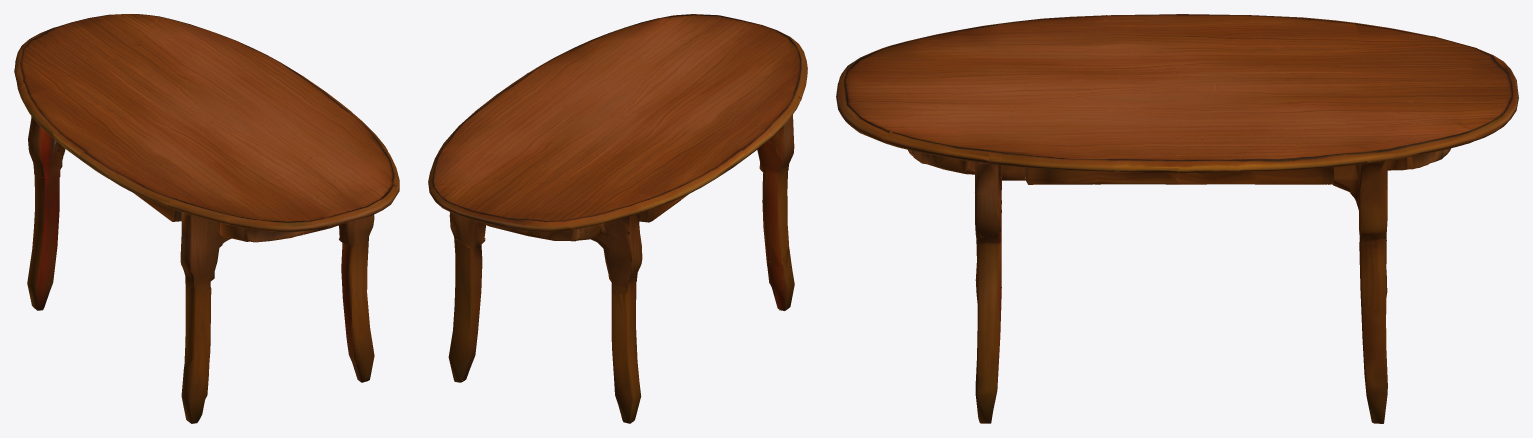
File: coffeetable-tripo.glb
The picture shows the model from 3 angles, left to right: view 1: azimuth 30°, elevation 25°; view 2: azimuth 150°, elevation 25°; view 3: azimuth 270°, elevation 25°; orthographic projection. The views are drawn at different scales.
Visible parts, largest first — view 1: tripo_node_15129c01-9763-4336-b4a5-b37b0116475d; view 2: tripo_node_15129c01-9763-4336-b4a5-b37b0116475d; view 3: tripo_node_15129c01-9763-4336-b4a5-b37b0116475d.
Part boxes in pixels (x1,y1,x2,y2): tripo_node_15129c01-9763-4336-b4a5-b37b0116475d: [14, 14, 399, 423]; tripo_node_15129c01-9763-4336-b4a5-b37b0116475d: [428, 14, 807, 423]; tripo_node_15129c01-9763-4336-b4a5-b37b0116475d: [836, 14, 1518, 423].
Size of the model in its own units: 0.5338 by 0.4632 by 1.
Materials: 1 (1 with a texture image).
